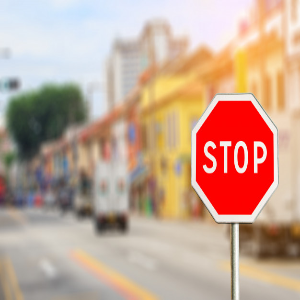STOP_SIGN: (190, 93, 278, 222)
